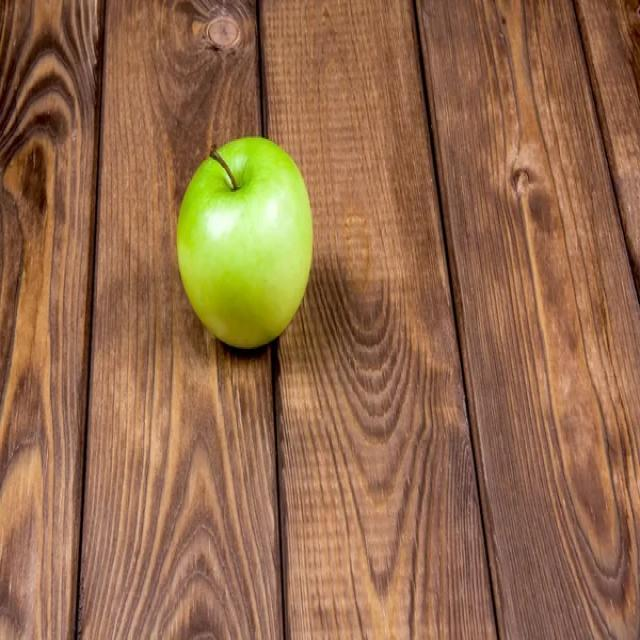Fresh Apple: (185, 145, 317, 332)
